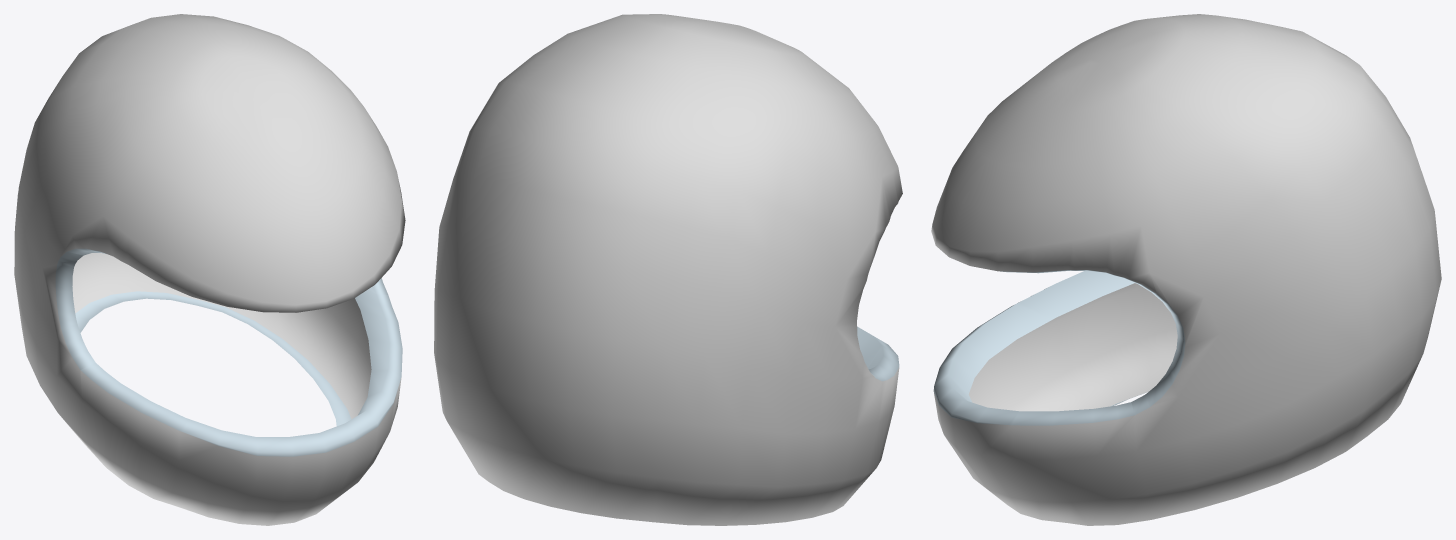
Rendered from racingHelmet.glb.
3 views of the same model, side by side, from view 1: azimuth 30°, elevation 25°; view 2: azimuth 150°, elevation 25°; view 3: azimuth 270°, elevation 25° (orthographic). The views are drawn at different scales.
Visible parts, largest first — view 1: racingHelmet; view 2: racingHelmet; view 3: racingHelmet.
Boxes of the visible parts, bbox=[...] form: racingHelmet: bbox=[14, 14, 405, 525]; racingHelmet: bbox=[434, 14, 902, 525]; racingHelmet: bbox=[931, 14, 1441, 525].
Size of the model in its own units: 1.09 by 1.39 by 1.39.
